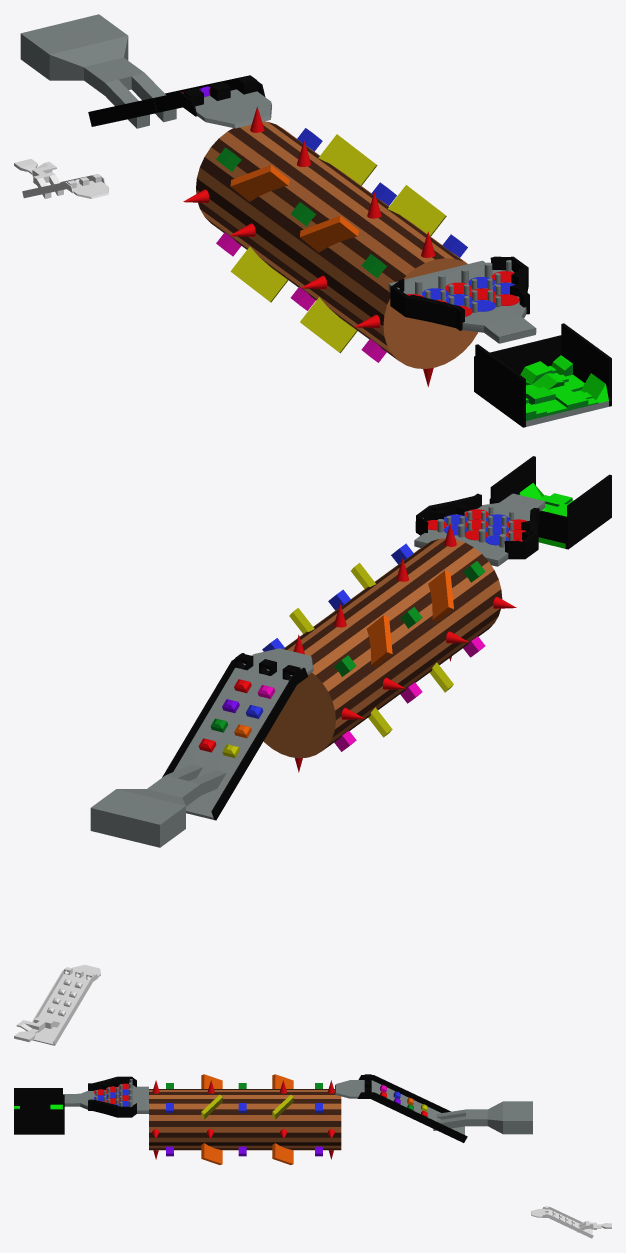
Rendered from spawn_and_ball_ramp 1.fbx.
3 renders of one model, top to bottom at view 1: azimuth 30°, elevation 25°; view 2: azimuth 150°, elevation 25°; view 3: azimuth 270°, elevation 25°, orthographic. The views are drawn at different scales.
Visible parts, largest first — view 1: Cube, Ball_Ramp, Plane, rotation_platform, Ball_Ramp.001; view 2: Cube, Ball_Ramp, rotation_platform, Plane, Ball_Ramp.001; view 3: Cube, Ball_Ramp, Plane, rotation_platform, Ball_Ramp.001.
Boxes of the visible parts, <box> form: Cube: <box>183,106,478,386</box>; Ball_Ramp: <box>20,14,271,128</box>; Plane: <box>474,323,611,427</box>; rotation_platform: <box>388,256,536,343</box>; Ball_Ramp.001: <box>14,159,108,198</box>; Cube: <box>262,523,516,772</box>; Ball_Ramp: <box>90,648,313,847</box>; rotation_platform: <box>414,493,545,566</box>; Plane: <box>489,456,611,549</box>; Ball_Ramp.001: <box>14,965,100,1045</box>; Cube: <box>149,1074,341,1164</box>; Ball_Ramp: <box>335,1074,532,1142</box>; Plane: <box>14,1088,64,1134</box>; rotation_platform: <box>64,1076,148,1117</box>; Ball_Ramp.001: <box>531,1206,611,1238</box>.
Size of the model in its own units: 5135 by 9191 by 34263.
